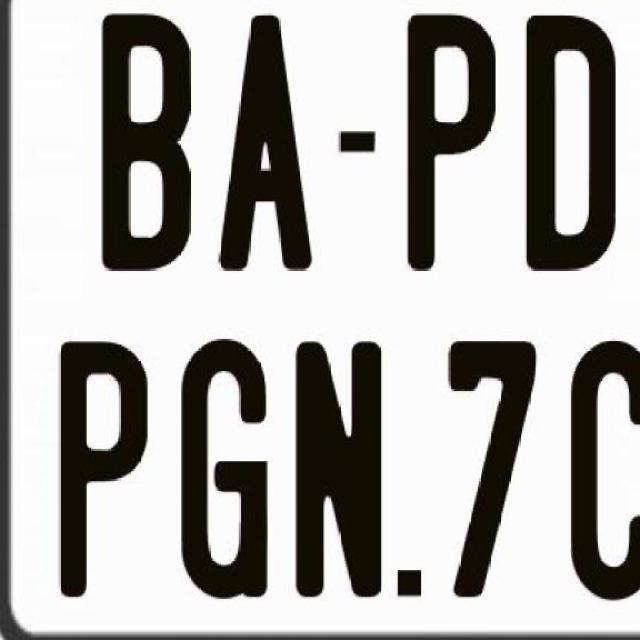license-plate: (48, 15, 640, 634)
